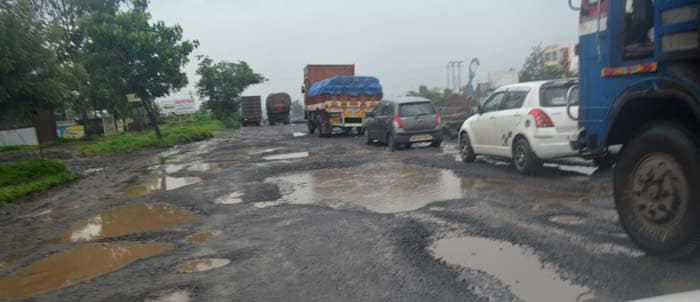pothole: (252, 140, 468, 224), (401, 241, 571, 300), (65, 186, 208, 238)
